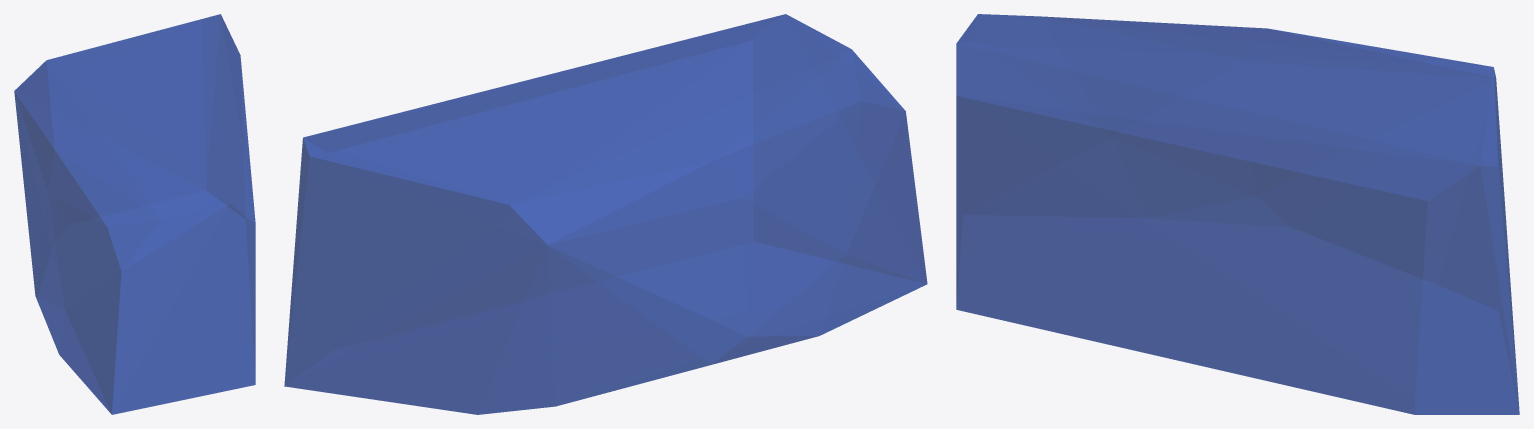
The picture shows the model from 3 angles, left to right: view 1: azimuth 30°, elevation 25°; view 2: azimuth 150°, elevation 25°; view 3: azimuth 270°, elevation 25°; orthographic projection. The views are drawn at different scales.
Visible parts, largest first — view 1: Shape_IndexedFaceSet.019_Shape_IndexedFaceSet.18172; view 2: Shape_IndexedFaceSet.019_Shape_IndexedFaceSet.18172; view 3: Shape_IndexedFaceSet.019_Shape_IndexedFaceSet.18172.
Boxes of the visible parts, x1,y1,x2,y2 form: Shape_IndexedFaceSet.019_Shape_IndexedFaceSet.18172: [14, 14, 255, 414]; Shape_IndexedFaceSet.019_Shape_IndexedFaceSet.18172: [284, 14, 927, 414]; Shape_IndexedFaceSet.019_Shape_IndexedFaceSet.18172: [956, 14, 1519, 414].
Size of the model in its own units: 0.2674 by 0.158 by 0.3235.
